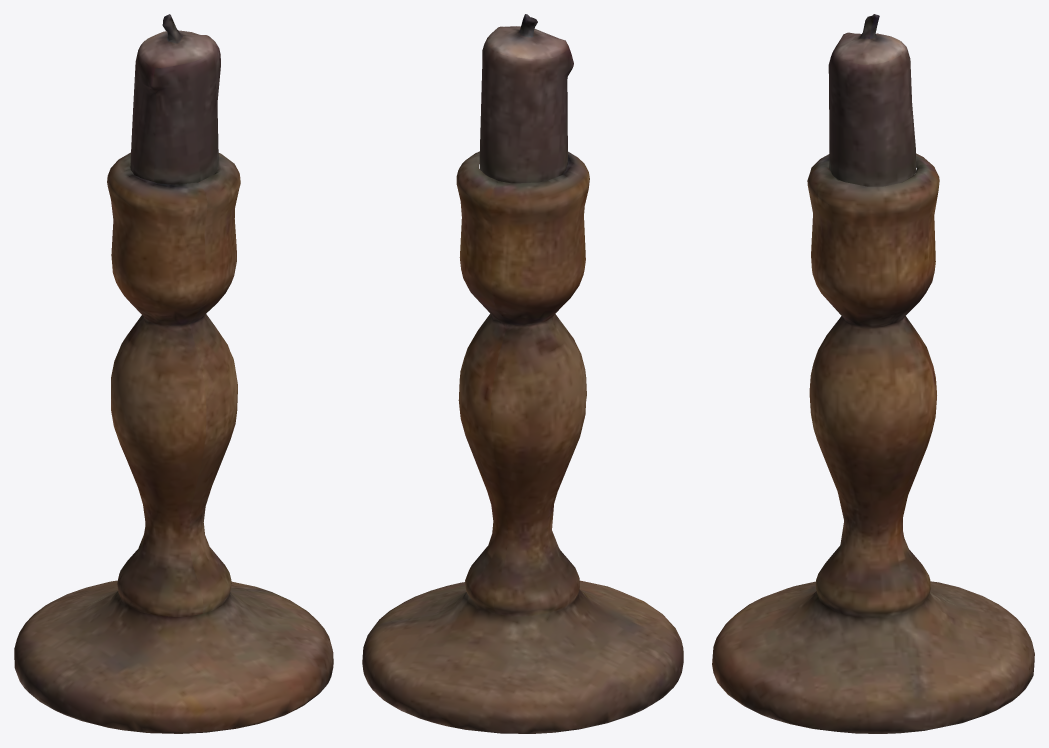
The model's file is wooden_candlestick.glb.
The picture shows the model from 3 angles, left to right: view 1: azimuth 30°, elevation 25°; view 2: azimuth 150°, elevation 25°; view 3: azimuth 270°, elevation 25°; orthographic projection.
Parts seen in each view (by area): view 1: wooden_candlestick; view 2: wooden_candlestick; view 3: wooden_candlestick.
Part boxes in pixels (x1,y1,x2,y2): wooden_candlestick: (14, 14, 333, 733); wooden_candlestick: (362, 14, 683, 733); wooden_candlestick: (712, 14, 1034, 733).
Bounding box in the file's own units: 0.0969 × 0.2195 × 0.0985.
Materials: 1 (1 with a texture image).
